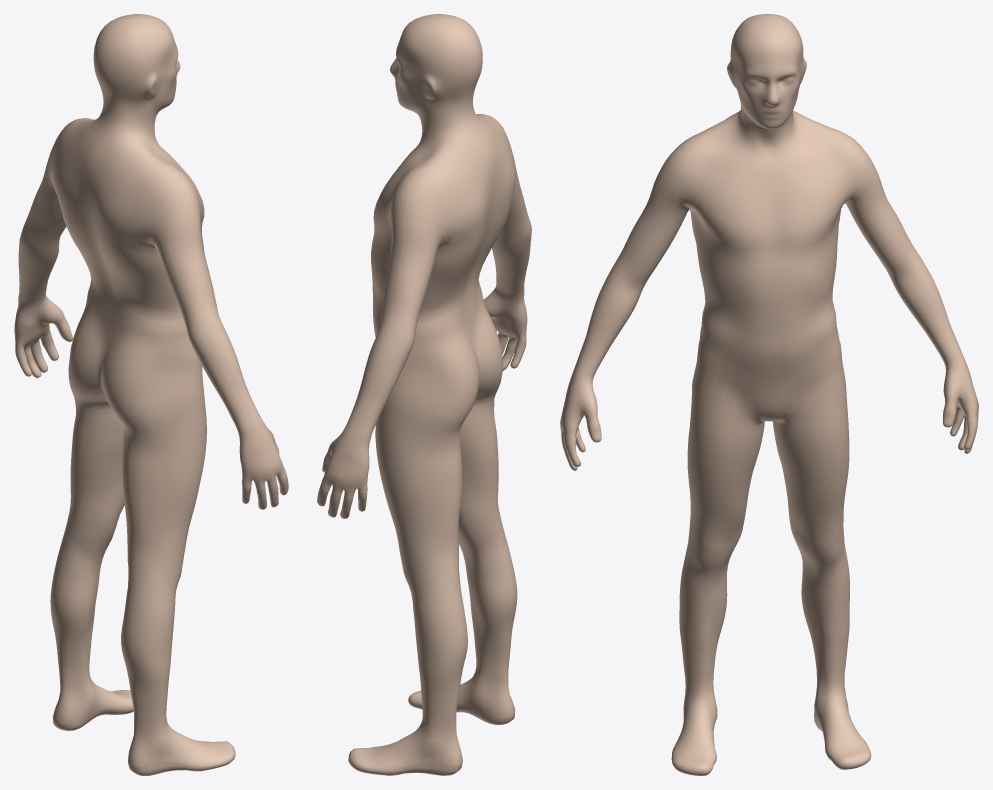
Rendered from Human.fbx.
3 renders of one model, left to right at view 1: azimuth 30°, elevation 25°; view 2: azimuth 150°, elevation 25°; view 3: azimuth 270°, elevation 25°, orthographic.
Visible parts, largest first — view 1: HumanBody:humanBody; view 2: HumanBody:humanBody; view 3: HumanBody:humanBody.
Part boxes in pixels (x1=…): HumanBody:humanBody: x1=14, y1=14, x2=288, y2=775; HumanBody:humanBody: x1=317, y1=14, x2=531, y2=775; HumanBody:humanBody: x1=560, y1=14, x2=978, y2=775.
Bounding box in the file's own units: 31.72 × 183 × 94.98.
